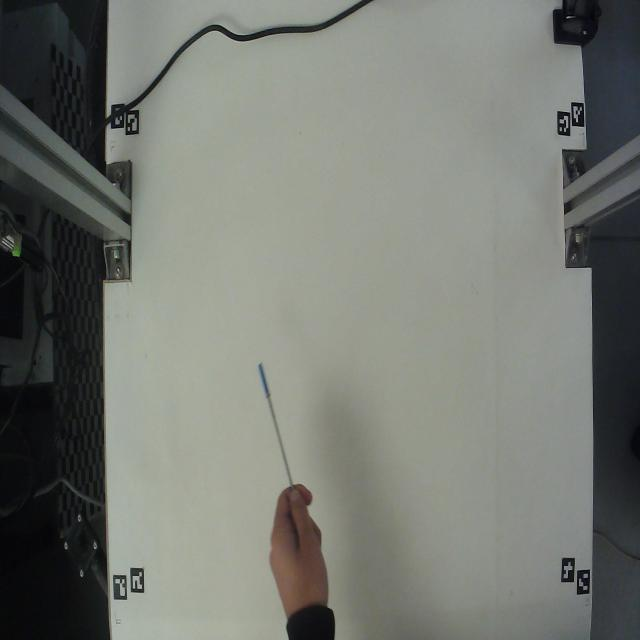NoPres: (251, 356, 297, 484)
